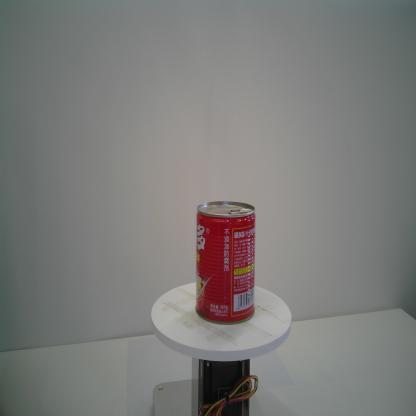Canned Food: (195, 200, 256, 325)
